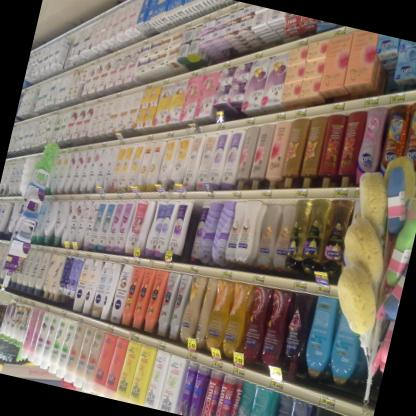empty_space: (183, 197, 203, 255)
